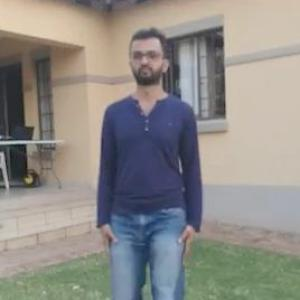follow: (97, 25, 200, 299)
